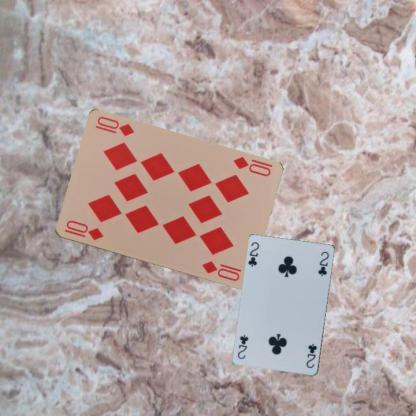10d: (62, 218, 104, 242), (230, 154, 272, 178)
2c: (245, 240, 260, 269), (304, 341, 318, 370)
